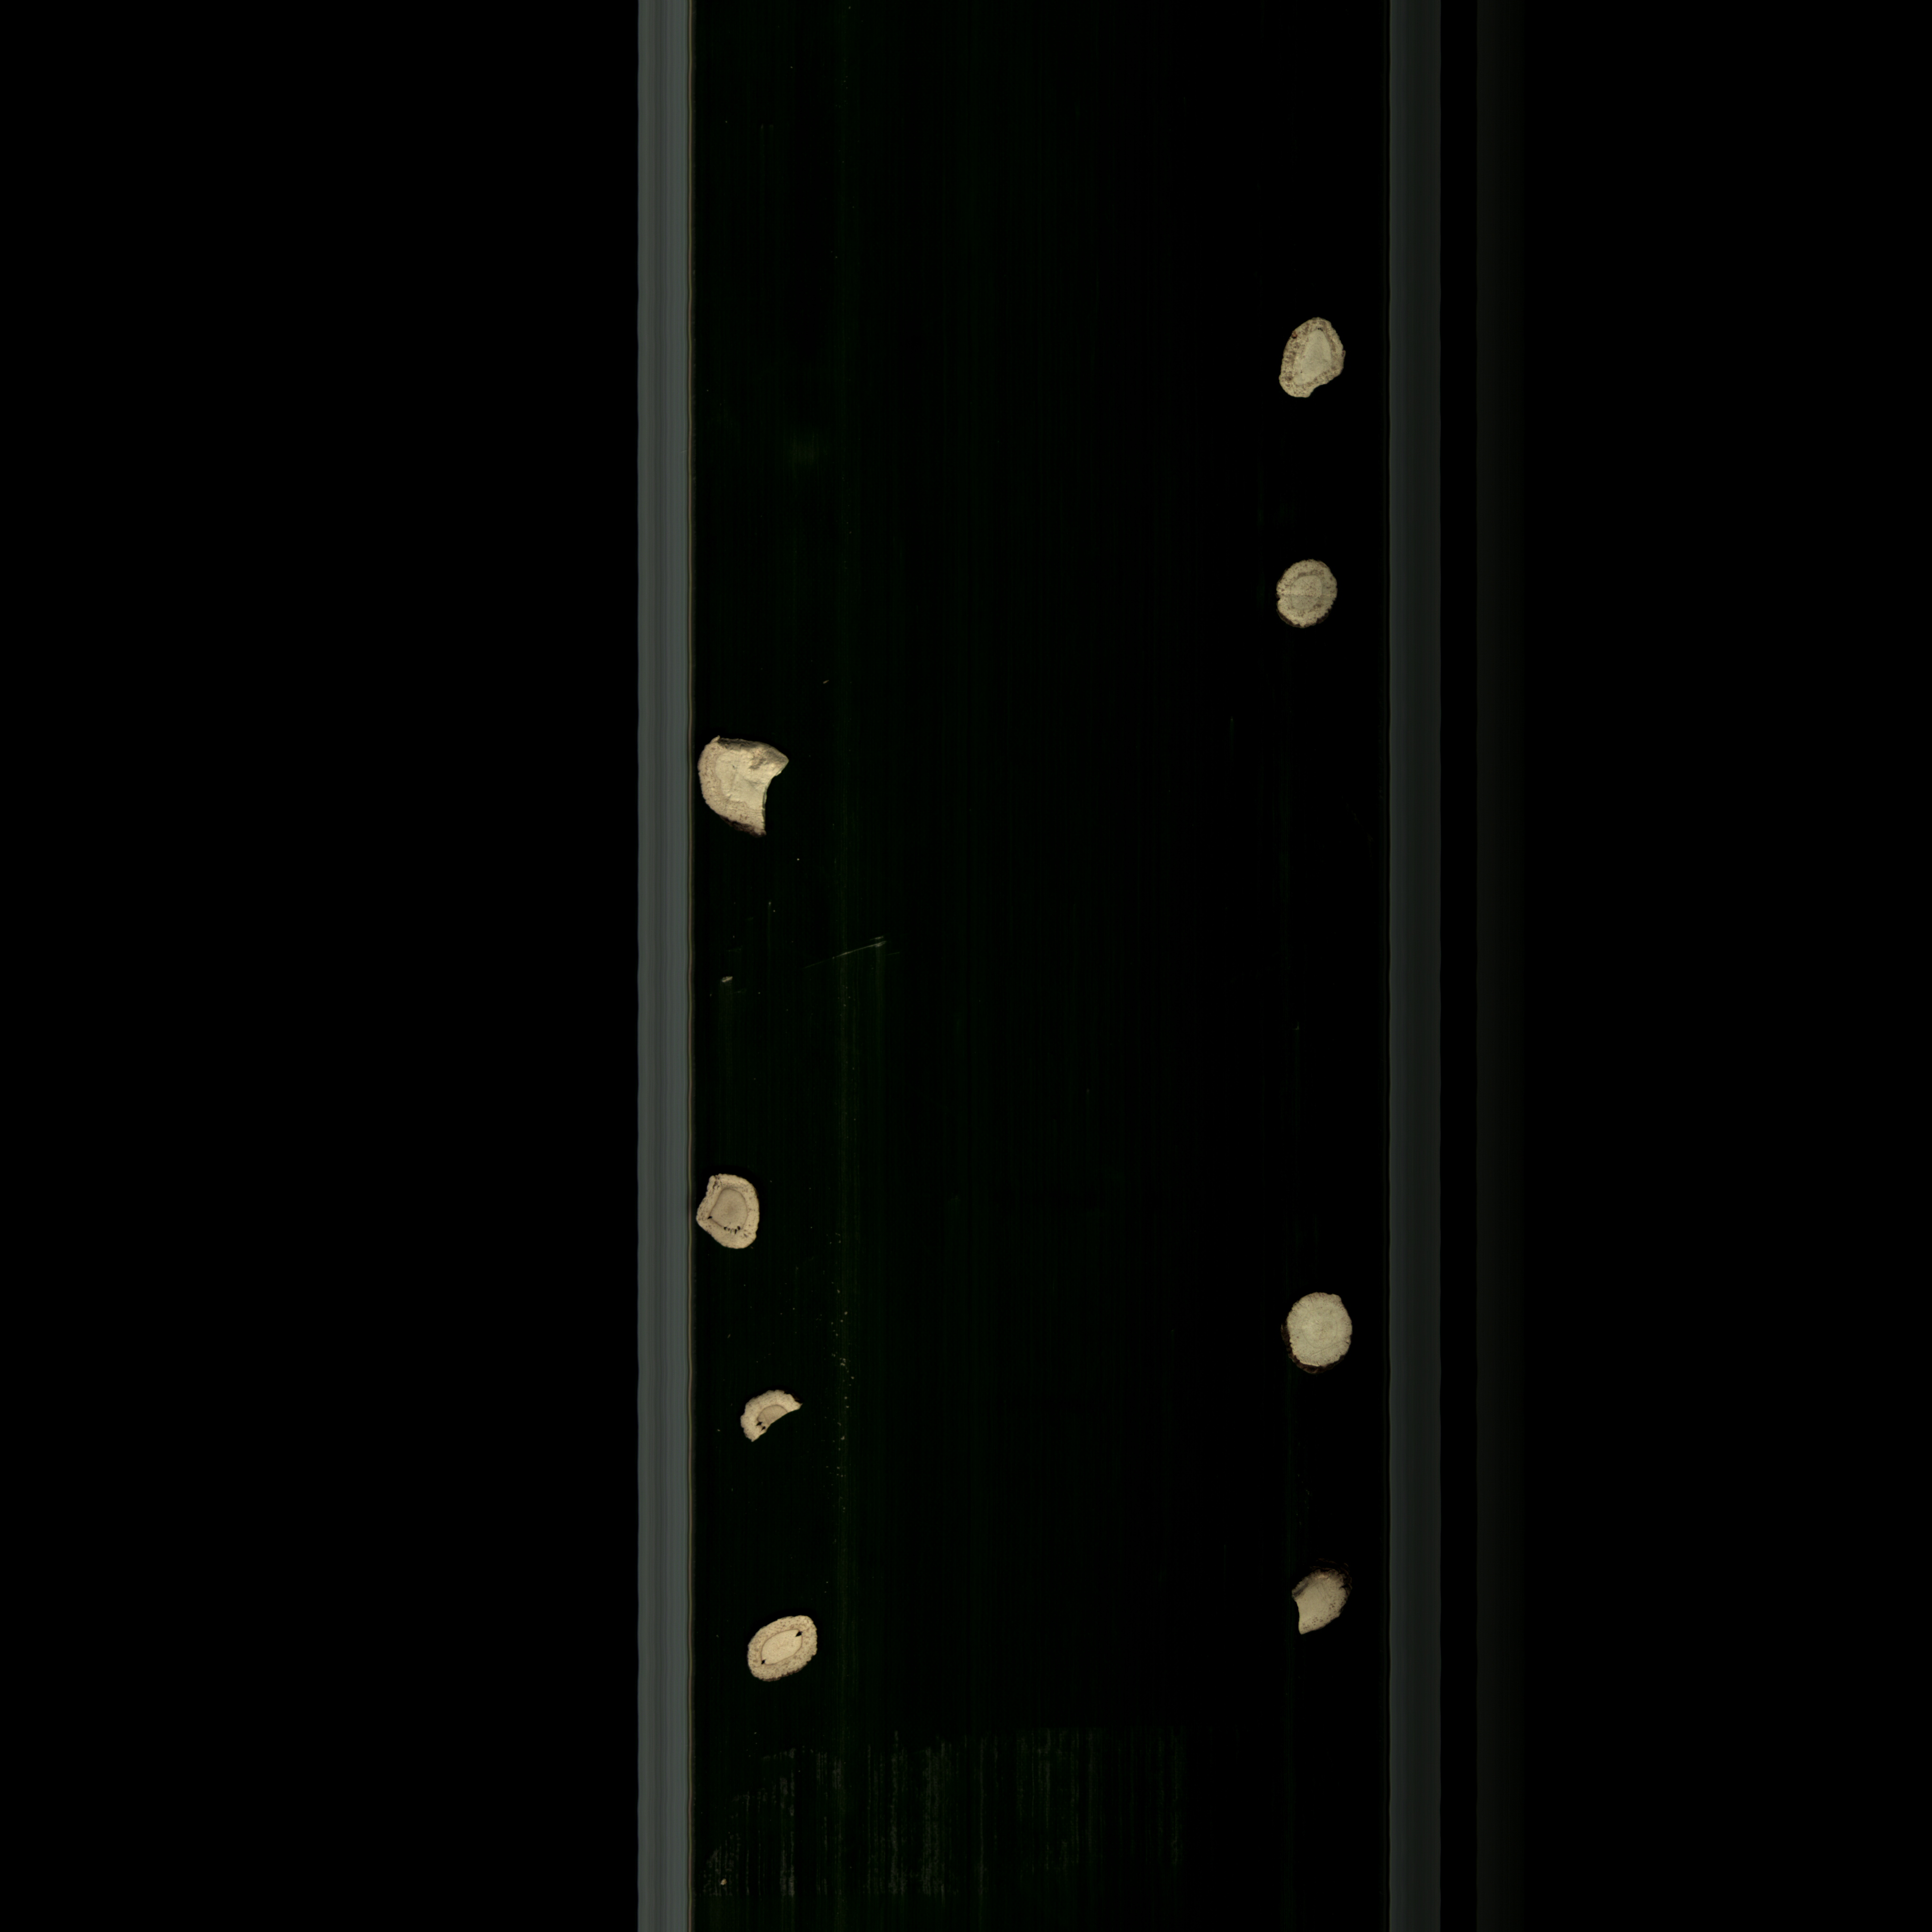debris: (690, 722, 794, 837), (1284, 1560, 1362, 1658), (731, 1380, 814, 1456)
hole: (692, 1166, 773, 1260), (740, 1610, 830, 1691)
moldy: (1281, 311, 1357, 416), (1270, 556, 1343, 640)
